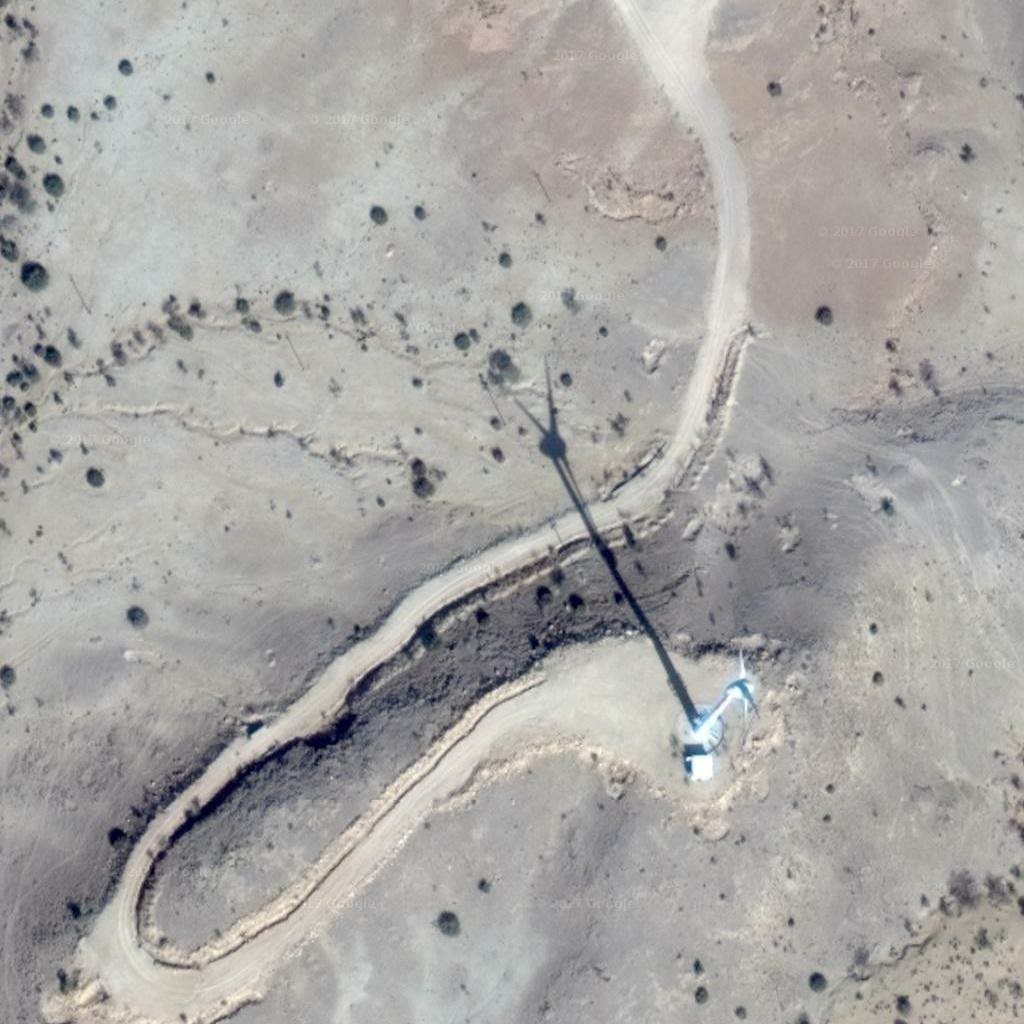Windmill: (502, 355, 643, 588)
